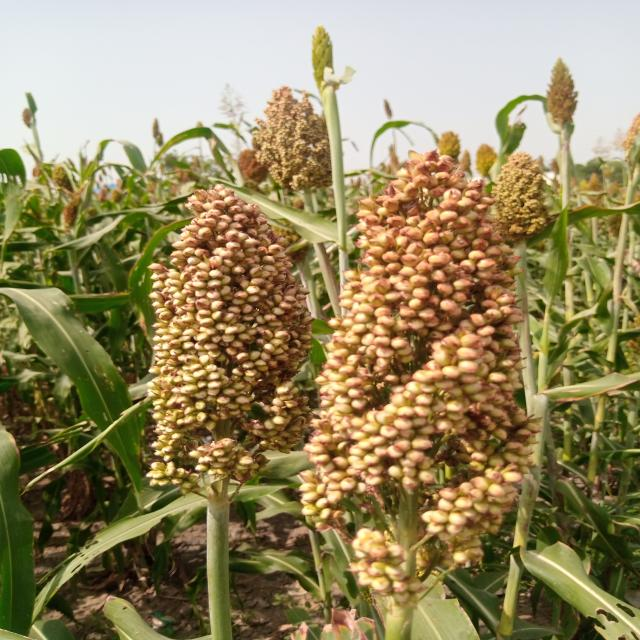UnripeSorghum: (319, 154, 558, 599), (115, 177, 324, 509)
